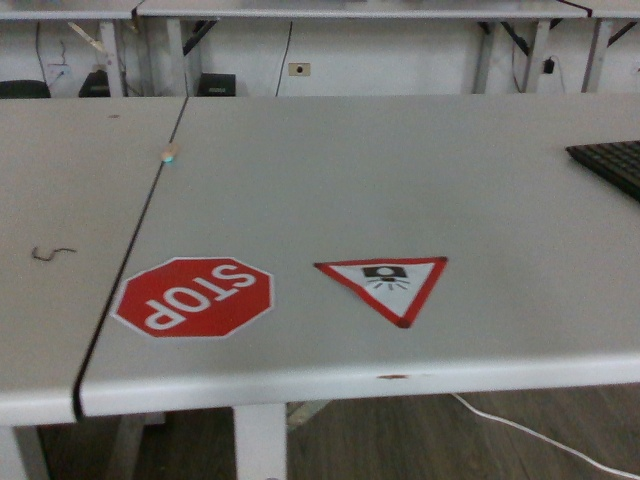camera: (308, 254, 453, 331)
stop: (108, 253, 275, 341)
